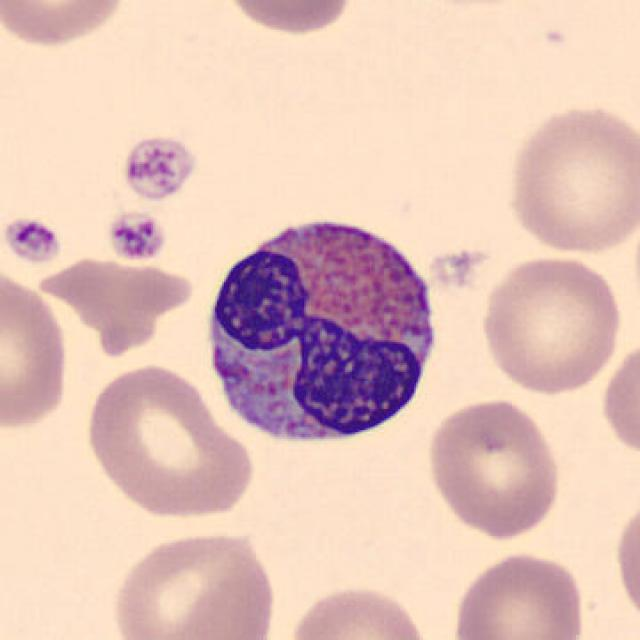Eosinophil: (194, 199, 448, 457)
Platelets: (117, 130, 201, 204), (105, 208, 167, 265), (2, 214, 64, 266)
RBC: (80, 360, 258, 524), (474, 250, 626, 397), (503, 99, 638, 259), (423, 393, 565, 541), (106, 525, 282, 640), (448, 548, 588, 640), (0, 264, 73, 436), (282, 580, 433, 640), (0, 0, 133, 51), (215, 0, 361, 39), (597, 334, 640, 466), (610, 490, 640, 631)
